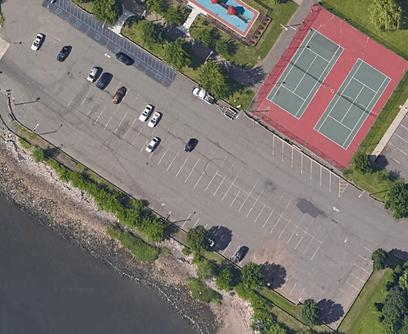parkingspot: (26, 31, 333, 244), (118, 117, 324, 261), (180, 212, 329, 312), (41, 0, 173, 90), (272, 134, 341, 200), (66, 83, 138, 143), (328, 246, 375, 317), (374, 112, 408, 176)
